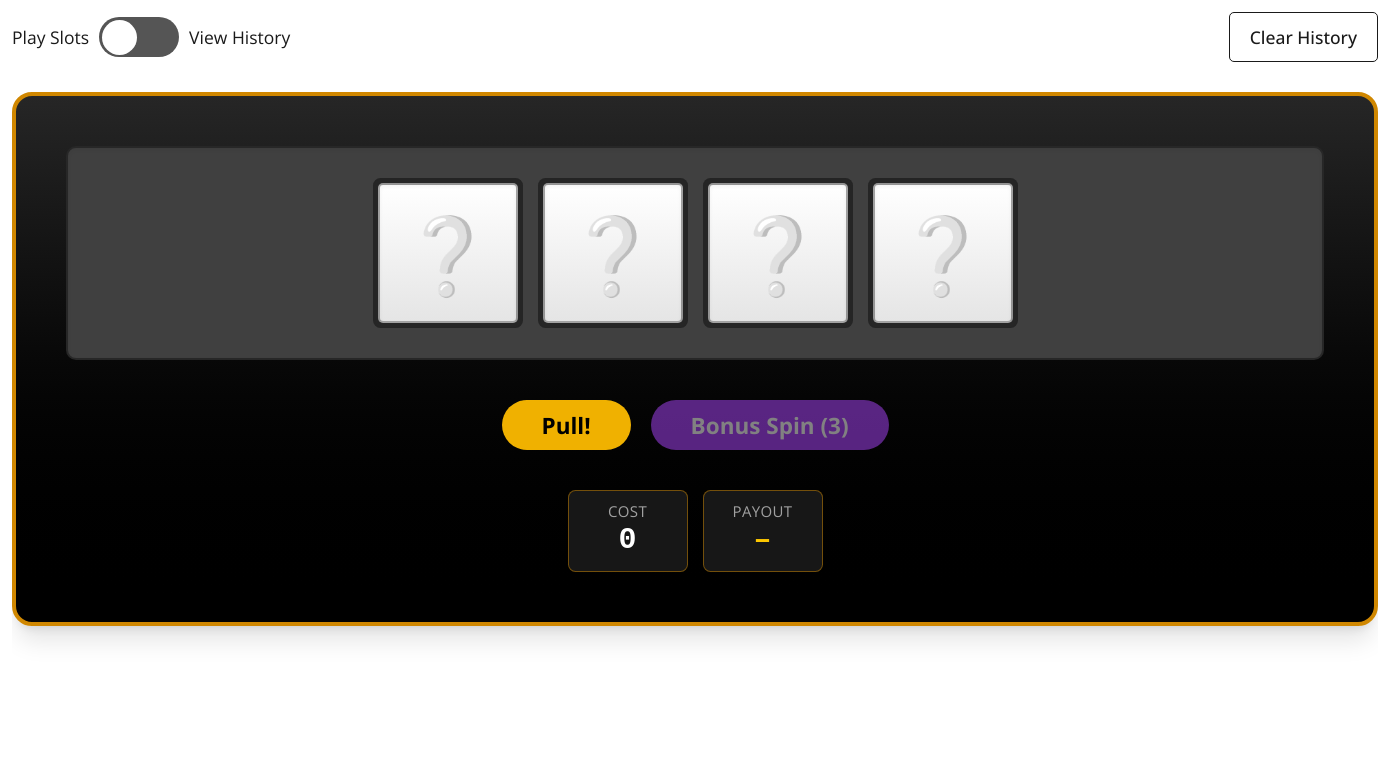
Test: SlotMachine (maxBonusSpins > 0) › spends a coin and re-rolls only the selected reel on a bonus spin
Click the button "Pull!" at (566, 425), box [502, 400, 631, 450]
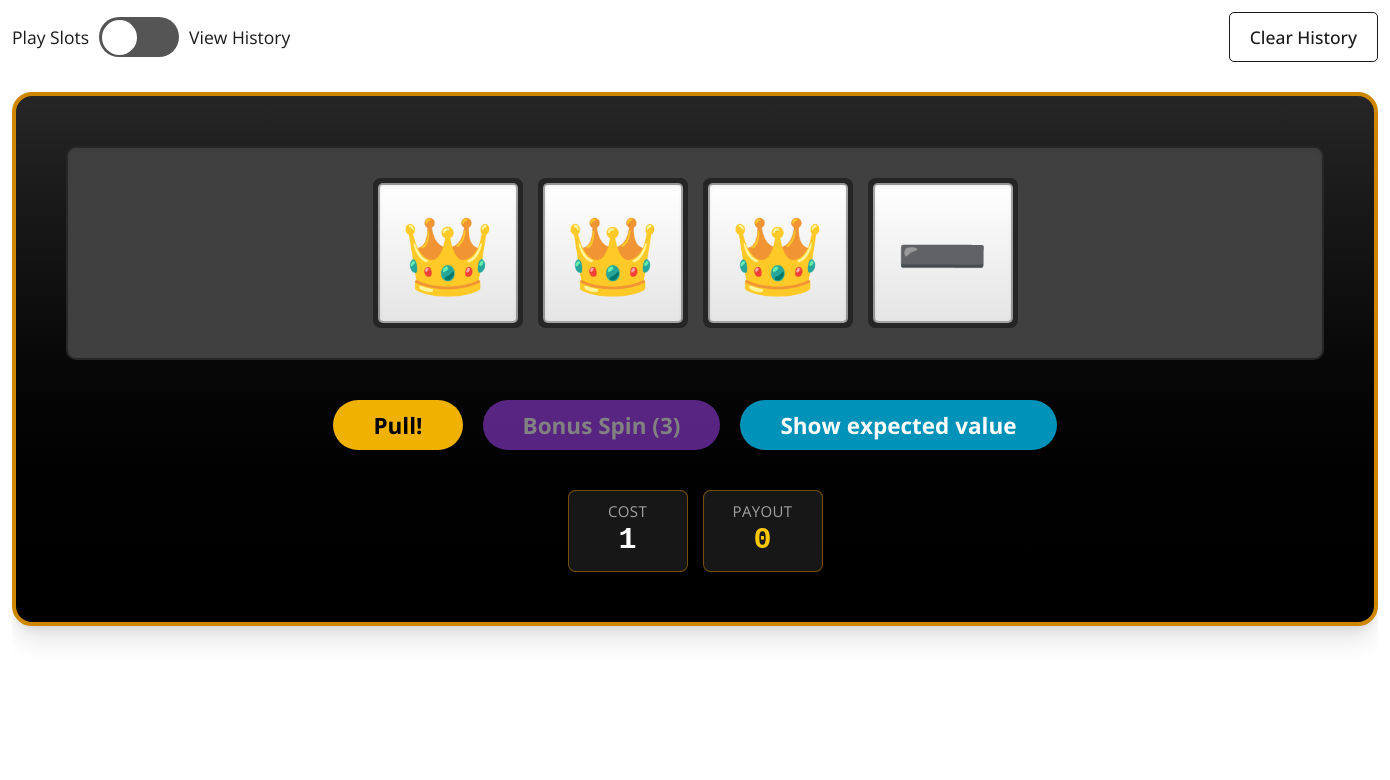
Click the button "➖" at (942, 253), box [868, 178, 1018, 328]
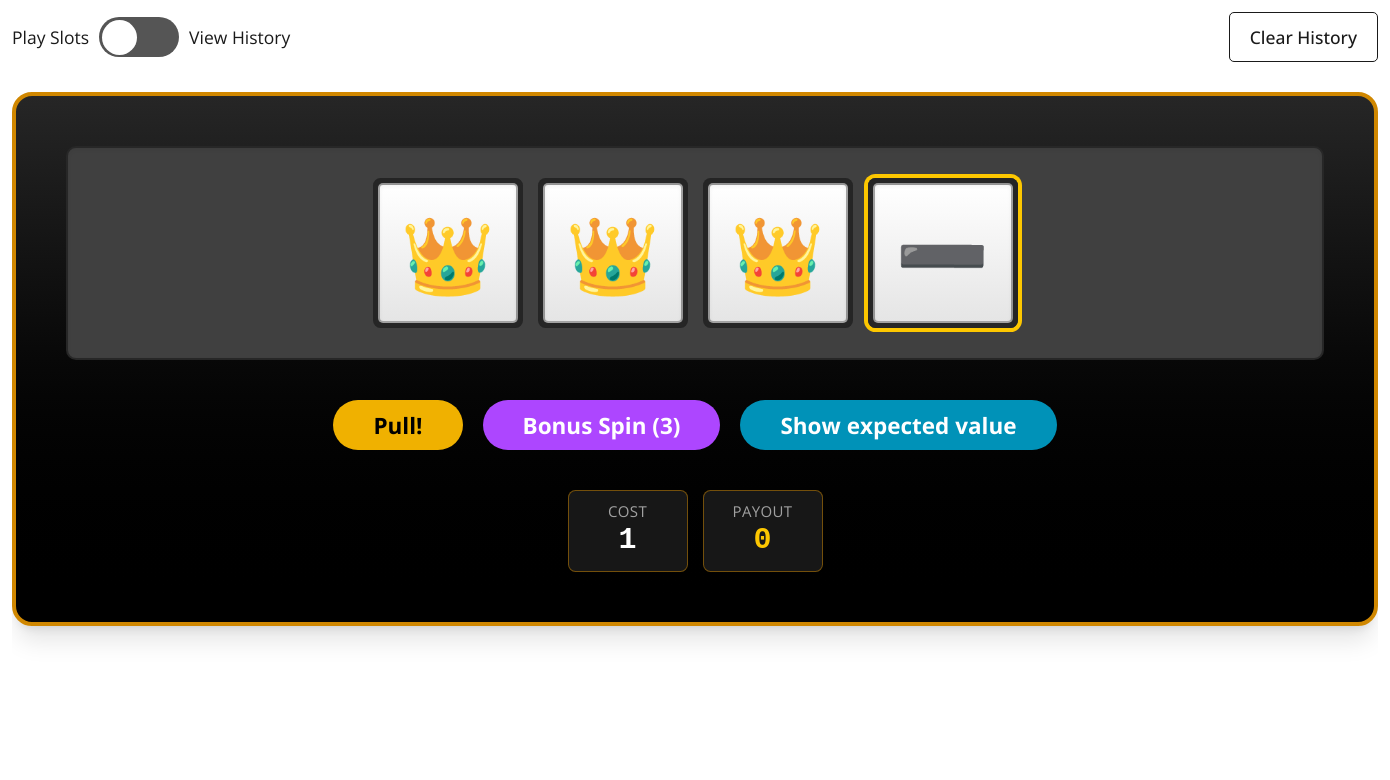
Click the button "Bonus Spin (3)" at (601, 425), box [482, 400, 720, 450]
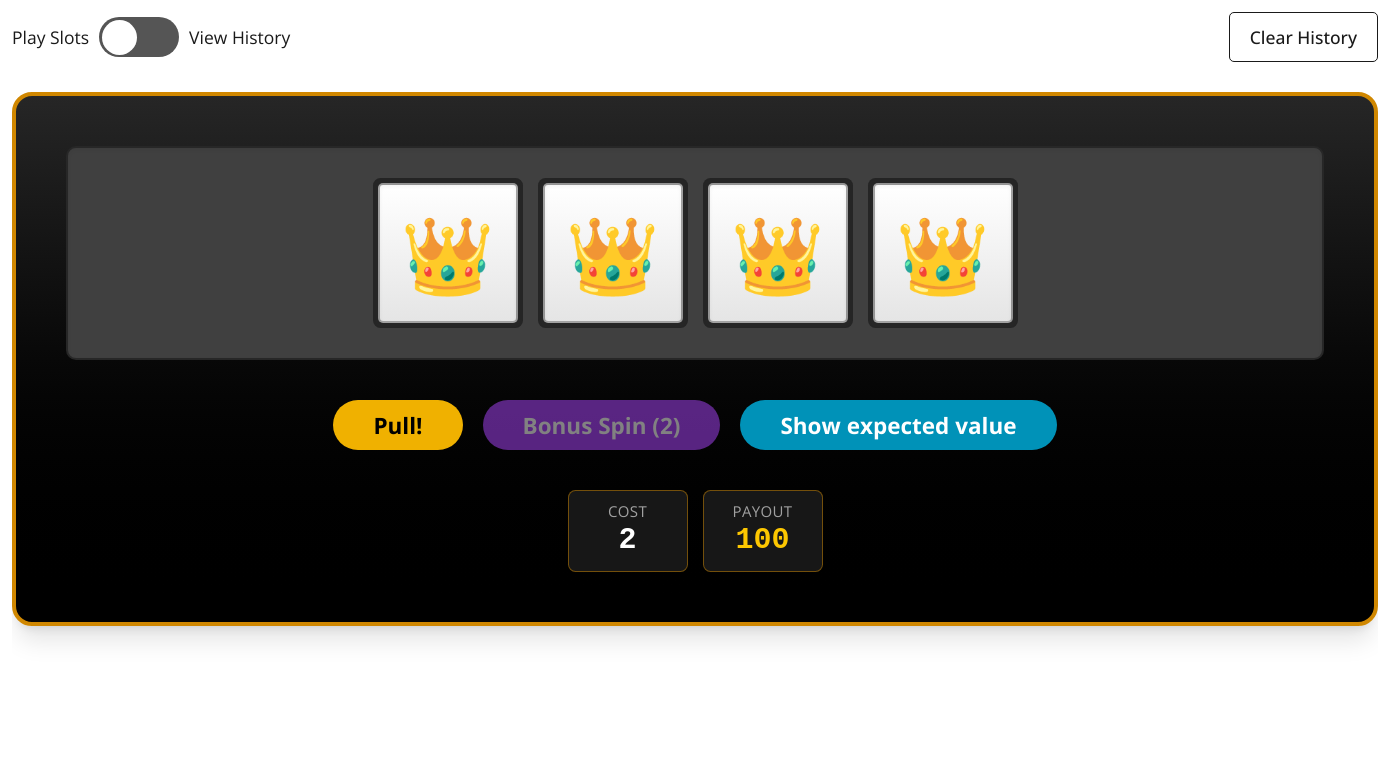
Expected: the text "100" is shown, [736, 523, 790, 557]
Expected: the button "Bonus Spin (2)" is shown, [482, 400, 720, 450]
